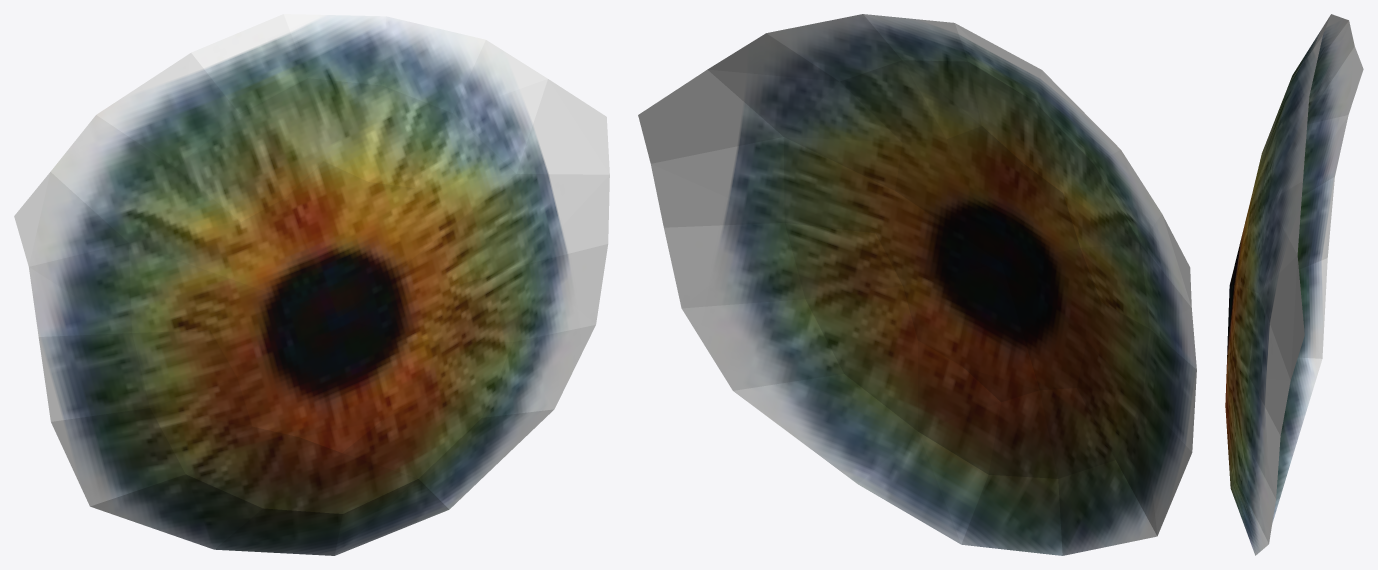
The model's file is myeye100.obj.
3 views of the same model, side by side, from view 1: azimuth 30°, elevation 25°; view 2: azimuth 150°, elevation 25°; view 3: azimuth 270°, elevation 25° (orthographic). The views are drawn at different scales.
Size of the model in its own units: 0.4927 by 0.4419 by 0.1137.
Materials: 1 (1 with a texture image).
